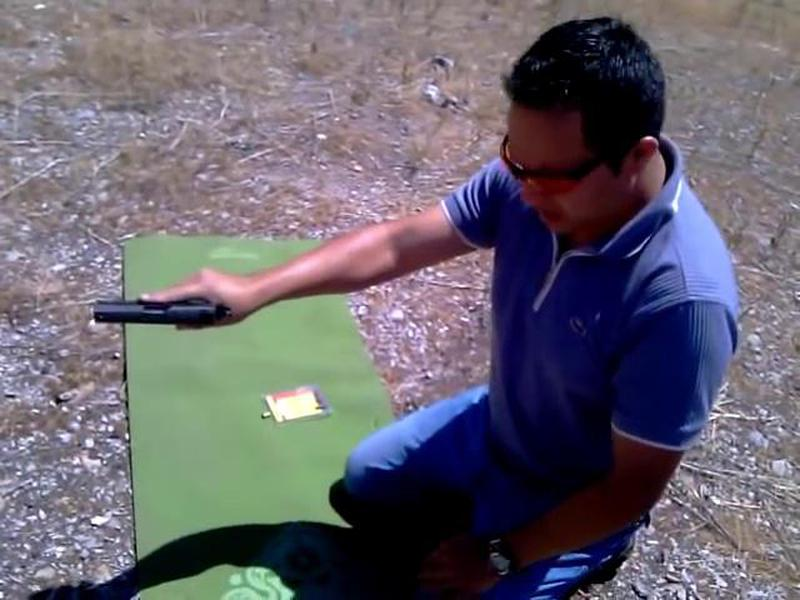Pistola: (78, 278, 236, 344)
